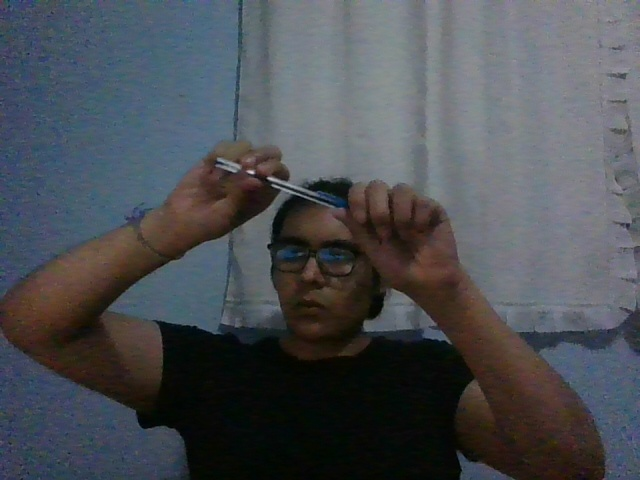pluma: (213, 156, 348, 209)
